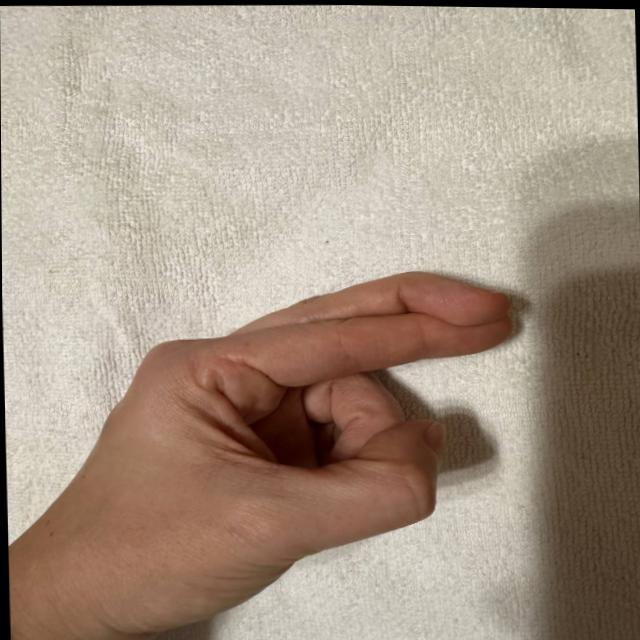ia: (83, 262, 533, 628)
